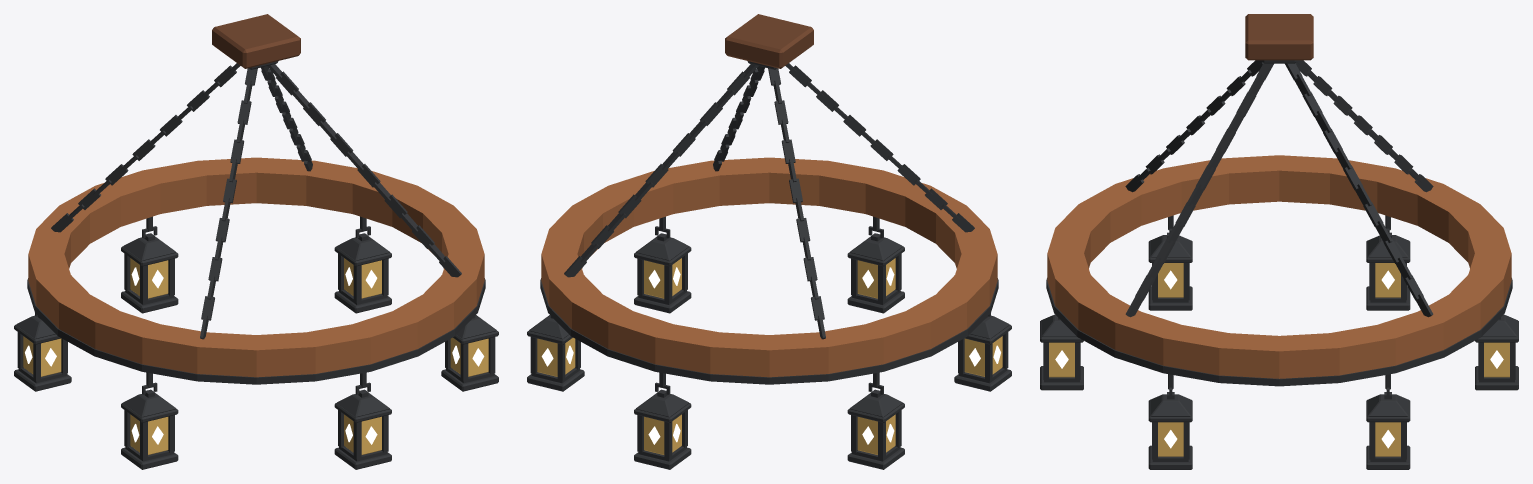
The model's file is Lodge_Chandelier.fbx.
3 views of the same model, side by side, from view 1: azimuth 30°, elevation 25°; view 2: azimuth 150°, elevation 25°; view 3: azimuth 270°, elevation 25° (orthographic).
Visible parts, largest first — view 1: Ring, FnMetal, Chains, FnPane, Ceiling, FnCore; view 2: Ring, FnMetal, Chains, FnPane, Ceiling, FnCore; view 3: Ring, FnMetal, Chains, FnPane, Ceiling, FnCore.
Part boxes in pixels (x1,y1,x2,y2): Ring: [28, 157, 484, 377]; FnMetal: [14, 61, 498, 469]; Chains: [51, 63, 461, 339]; FnPane: [23, 258, 488, 454]; Ceiling: [212, 14, 300, 68]; FnCore: [25, 267, 484, 444]; Ring: [541, 157, 997, 377]; FnMetal: [527, 61, 1011, 469]; Chains: [564, 63, 974, 339]; FnPane: [537, 258, 1002, 454]; Ceiling: [725, 14, 813, 68]; FnCore: [541, 267, 1000, 444]; Ring: [1047, 155, 1511, 378]; FnMetal: [1040, 60, 1518, 469]; Chains: [1125, 60, 1433, 317]; FnPane: [1049, 263, 1509, 456]; Ceiling: [1245, 14, 1313, 60]; FnCore: [1055, 270, 1503, 448].
Size of the model in its own units: 9.55 by 8.01 by 9.8.
